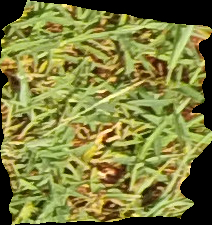grass: (1, 1, 211, 223)
